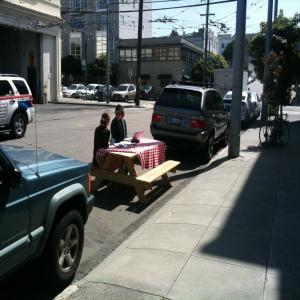Vehicle-registration-plate: (171, 116, 182, 126)
